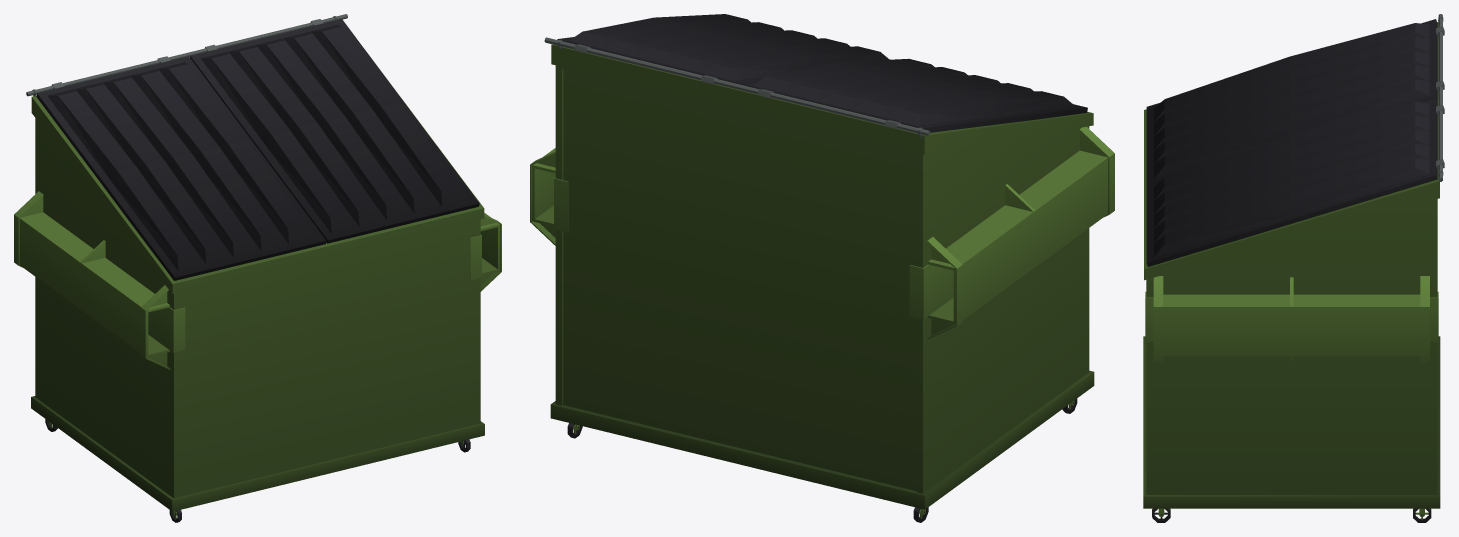
Rendered from Prop_Dumpster_01.obj.
3 renders of one model, left to right at view 1: azimuth 30°, elevation 25°; view 2: azimuth 150°, elevation 25°; view 3: azimuth 270°, elevation 25°, orthographic. The views are drawn at different scales.
Parts seen in each view (by area): view 1: Prop_Dumpster_01, Prop_Dumpster_Top_Left_01, Prop_Dumpster_Top_Right_01; view 2: Prop_Dumpster_01, Prop_Dumpster_Top_Left_01, Prop_Dumpster_Top_Right_01; view 3: Prop_Dumpster_01, Prop_Dumpster_Top_Right_01, Prop_Dumpster_Top_Left_01.
Part boxes in pixels (x1,y1,x2,y2): Prop_Dumpster_01: [14, 14, 501, 522]; Prop_Dumpster_Top_Left_01: [36, 56, 326, 280]; Prop_Dumpster_Top_Right_01: [190, 19, 479, 243]; Prop_Dumpster_01: [530, 37, 1114, 522]; Prop_Dumpster_Top_Left_01: [741, 58, 1087, 132]; Prop_Dumpster_Top_Right_01: [557, 14, 889, 84]; Prop_Dumpster_01: [1143, 14, 1443, 522]; Prop_Dumpster_Top_Right_01: [1146, 97, 1444, 266]; Prop_Dumpster_Top_Left_01: [1146, 19, 1444, 184].
Size of the model in its own units: 1.78 by 1.6 by 1.24.
Materials: 1 (1 with a texture image).
